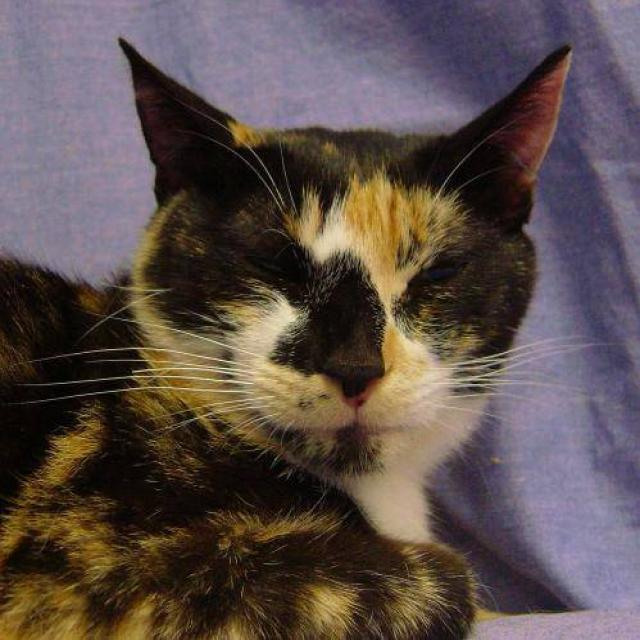cat: (0, 34, 594, 638)
